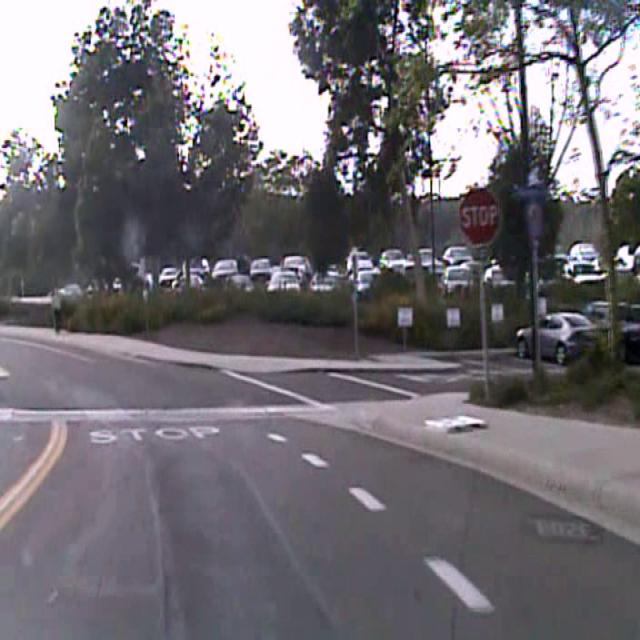stop_sign: (457, 185, 501, 247)
